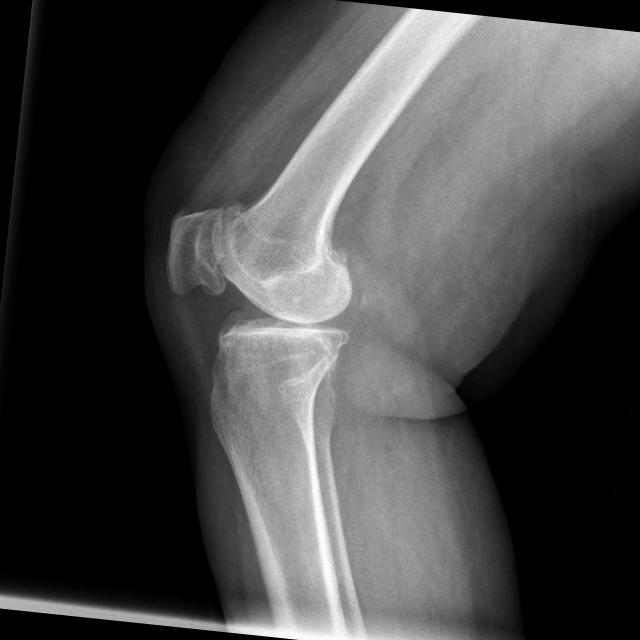Knee: (153, 196, 369, 400)
